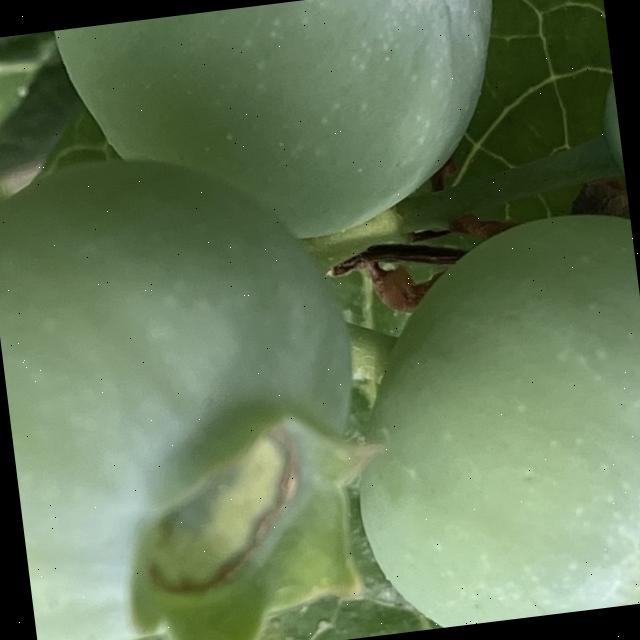Blueberries: (0, 122, 388, 640), (47, 0, 590, 271), (321, 206, 640, 636)
